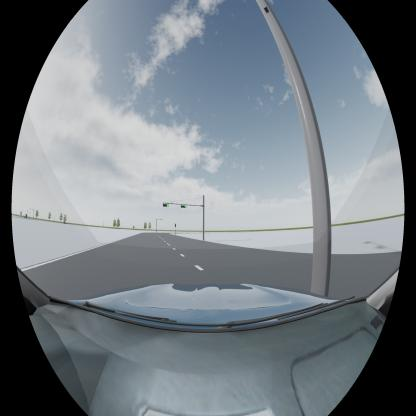Green Light: (163, 204, 169, 208), (181, 205, 187, 209)
